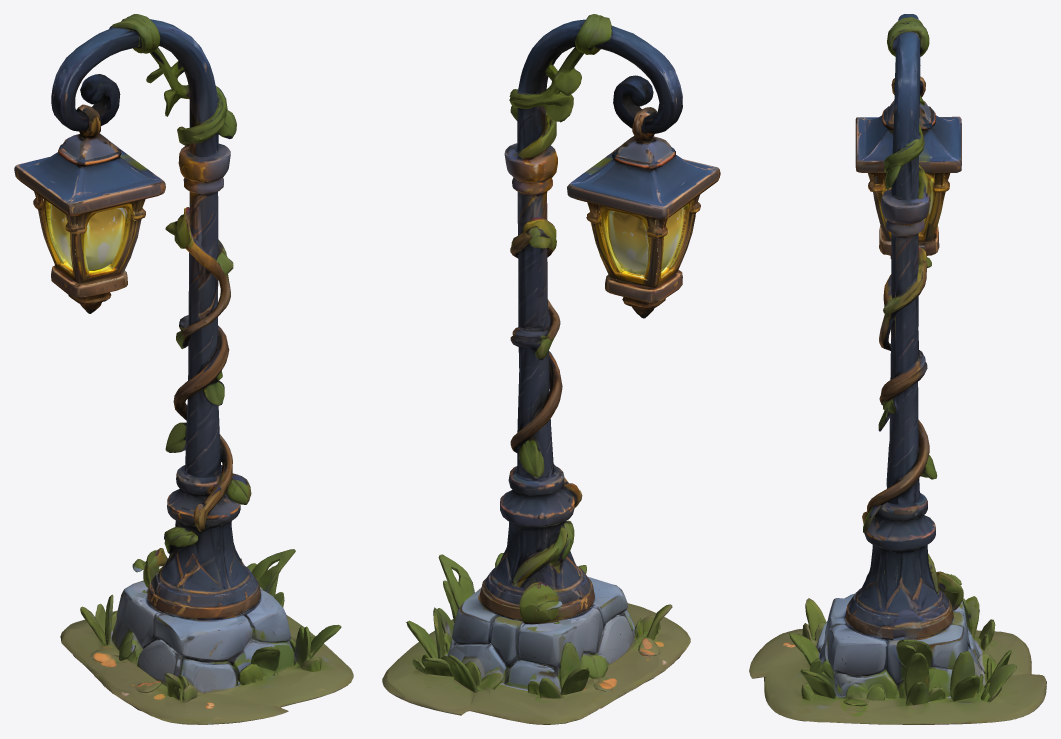
Rendered from CampLantern.fbx.
3 views of the same model, side by side, from view 1: azimuth 30°, elevation 25°; view 2: azimuth 150°, elevation 25°; view 3: azimuth 270°, elevation 25° (orthographic). The views are drawn at different scales.
Parts seen in each view (by area): view 1: node_0; view 2: node_0; view 3: node_0.
Part boxes in pixels (<box>): node_0: <box>14,14,353,724</box>; node_0: <box>382,14,720,724</box>; node_0: <box>749,14,1046,724</box>.
Size of the model in its own units: 42.25 by 100 by 43.23.
Materials: 1 (1 with a texture image).
